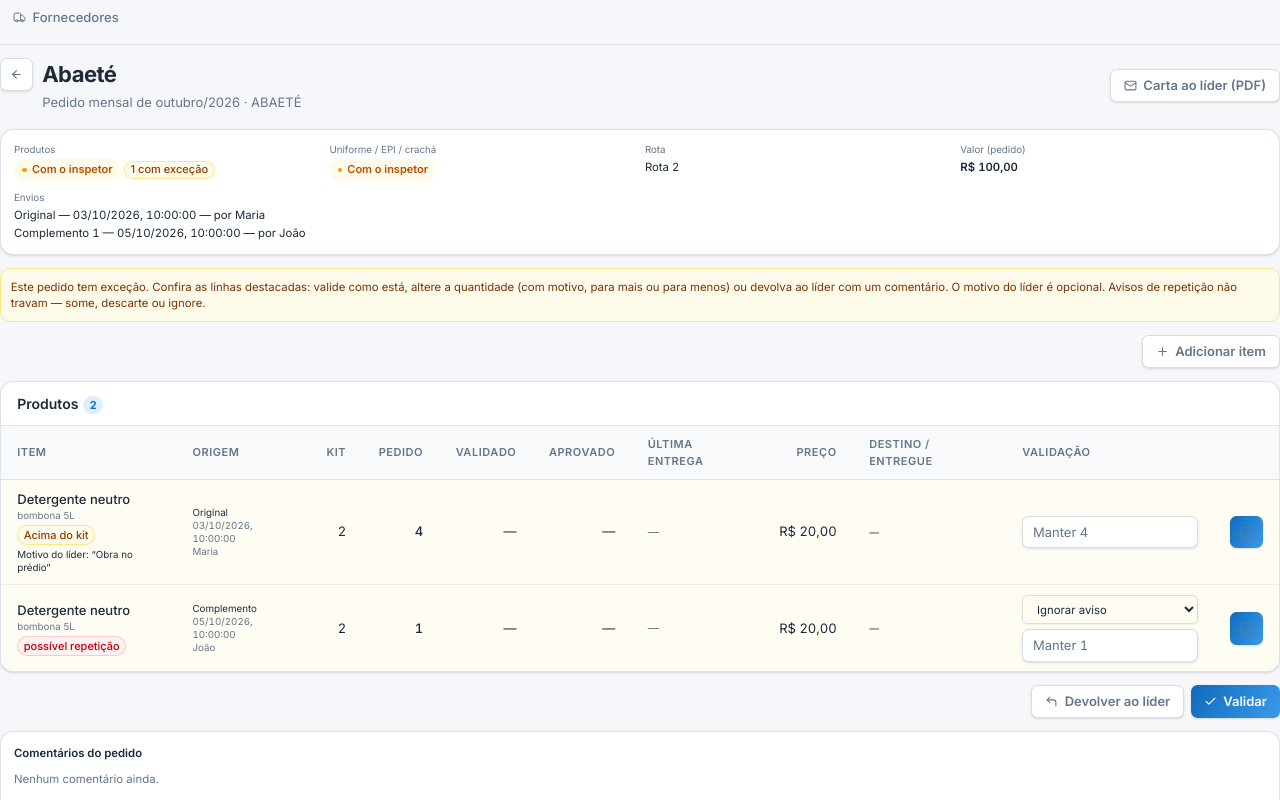
Test: Filas de Materiais — smoke test › Detalhe: "Adicionar item" abre o diálogo com o motivo obrigatório ("Qual o motivo?")
The image size is (1280, 800).
Click the button "Adicionar item" at (1211, 351), box x1=1142 y1=335 x2=1279 y2=368
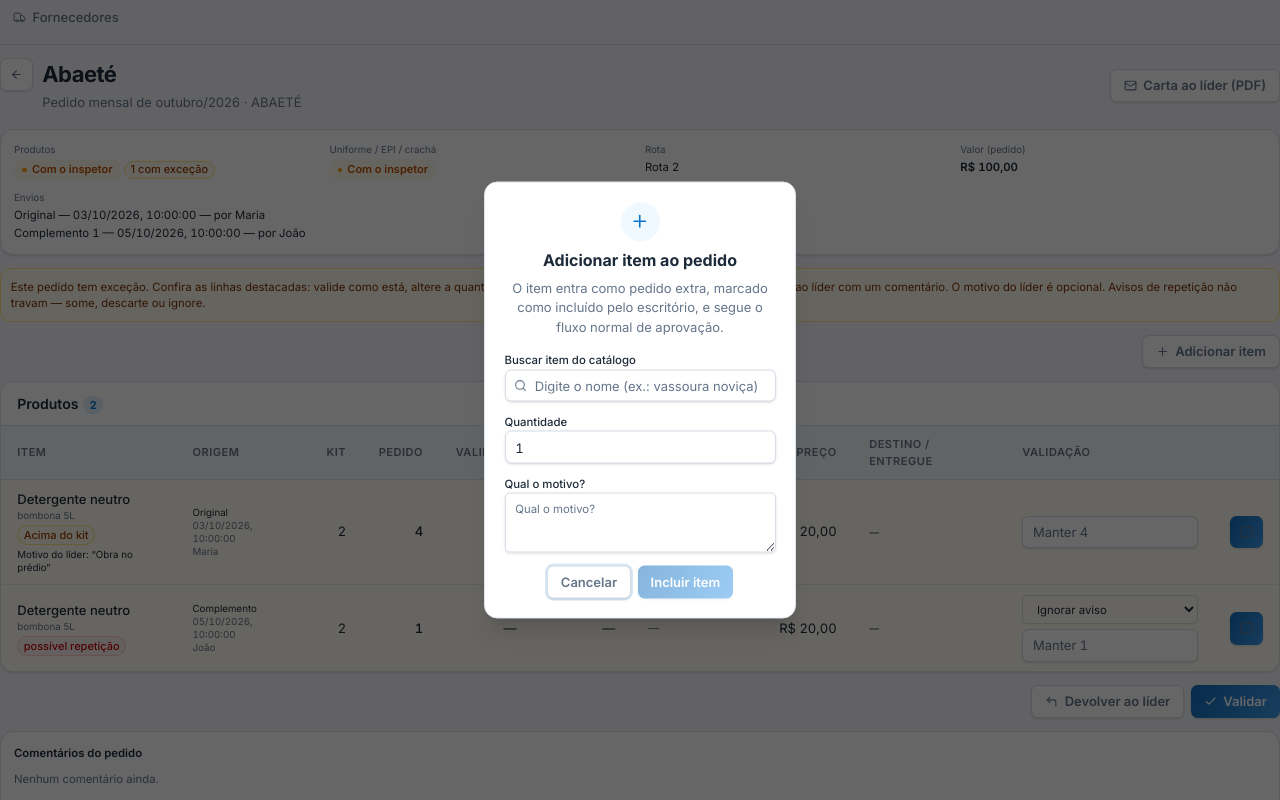
Result: the text box with placeholder "Qual o motivo?" is shown at x1=504 y1=492 x2=776 y2=552
Result: the button "Incluir item" is disabled at x1=638 y1=566 x2=733 y2=598
